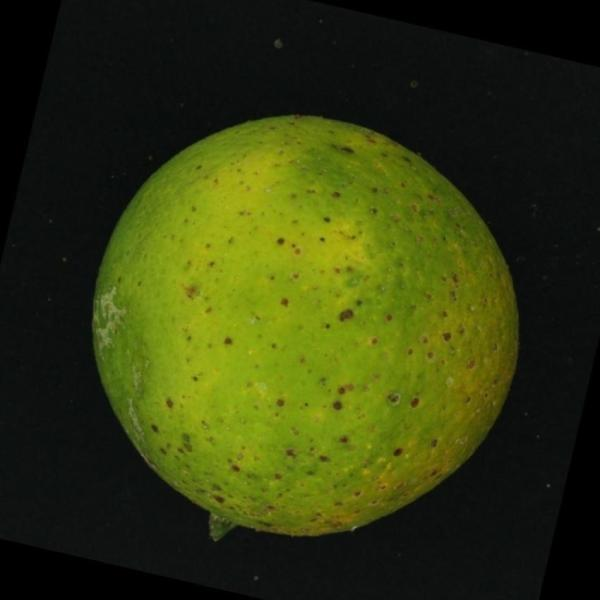Greening: (73, 100, 552, 547)
